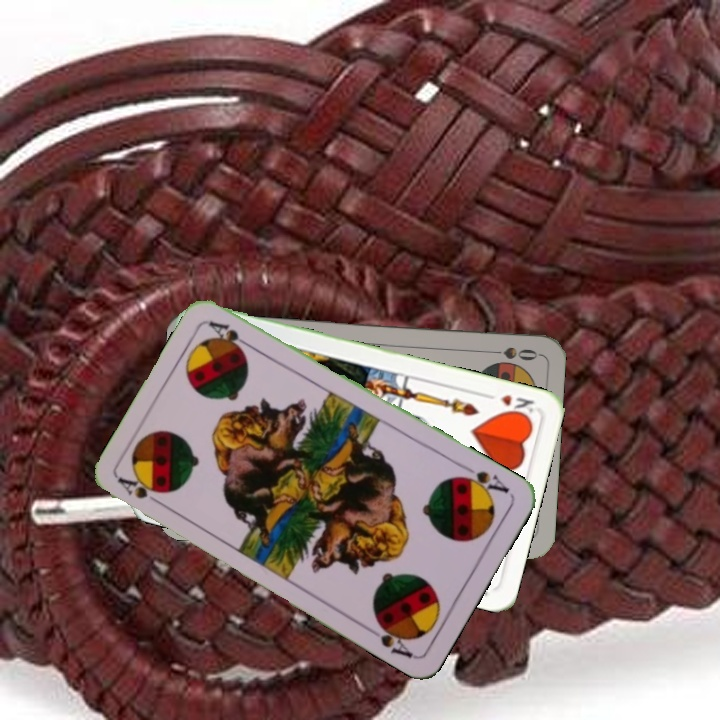HK: (480, 389, 537, 421)
SA: (454, 460, 512, 499), (114, 473, 168, 510)
SO: (481, 342, 540, 364)
